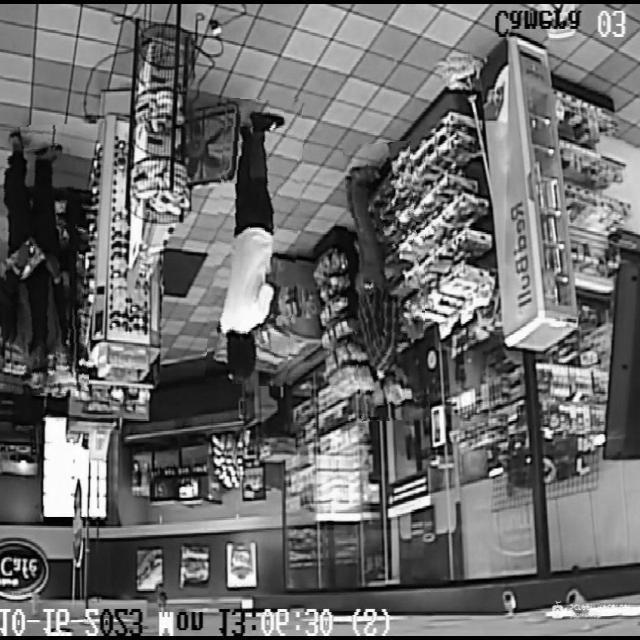Normal: (210, 99, 302, 386), (0, 125, 84, 395), (347, 142, 426, 421)
